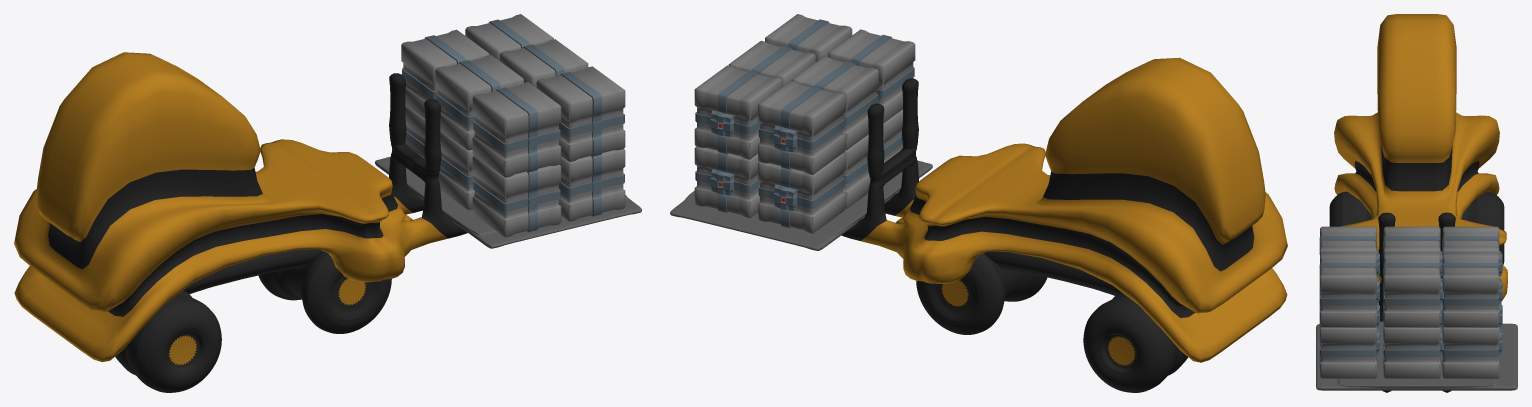
File: ForkLiftMetal.fbx
3 views of the same model, side by side, from view 1: azimuth 30°, elevation 25°; view 2: azimuth 150°, elevation 25°; view 3: azimuth 270°, elevation 25° (orthographic). The views are drawn at different scales.
Parts seen in each view (by area): view 1: Cube.001, Cylinder.001, MetalCrate.009, Cylinder.002, MetalCrate.008, MetalCrate.003, MetalCrate.007, MetalCrate.002, MetalCrate.011, Cube.026, MetalCrate.006, MetalCrate.010 (+3 smaller); view 2: Cube.001, Cylinder.001, MetalCrate.011, Cylinder.002, MetalCrate.010, MetalCrate.005, Cube.026, MetalCrate.004, MetalCrate.009, MetalCrate.007, MetalCrate.008, MetalCrate.006 (+3 smaller); view 3: Cube.001, MetalCrate.010, MetalCrate.006, MetalCrate.008, Cube.026, MetalCrate.004, MetalCrate, MetalCrate.002, Cylinder.001, MetalCrate.011, MetalCrate.007, MetalCrate.009.
Boxes of the visible parts, bbox=[...] form: Cube.001: bbox=[14, 52, 467, 362]; Cylinder.001: bbox=[115, 290, 221, 392]; MetalCrate.009: bbox=[472, 82, 561, 177]; Cylinder.002: bbox=[258, 251, 391, 333]; MetalCrate.008: bbox=[536, 66, 625, 162]; MetalCrate.003: bbox=[472, 155, 561, 237]; MetalCrate.007: bbox=[435, 55, 523, 150]; MetalCrate.002: bbox=[559, 149, 625, 221]; MetalCrate.011: bbox=[401, 29, 489, 118]; Cube.026: bbox=[375, 156, 641, 248]; MetalCrate.006: bbox=[499, 39, 588, 87]; MetalCrate.010: bbox=[465, 14, 553, 60]; Cube.001: bbox=[841, 57, 1287, 362]; Cylinder.001: bbox=[1083, 292, 1188, 392]; MetalCrate.011: bbox=[758, 81, 844, 175]; Cylinder.002: bbox=[916, 253, 1047, 334]; MetalCrate.010: bbox=[694, 65, 781, 159]; MetalCrate.005: bbox=[758, 153, 844, 233]; Cube.026: bbox=[670, 160, 932, 250]; MetalCrate.004: bbox=[694, 147, 759, 218]; MetalCrate.009: bbox=[828, 29, 915, 123]; MetalCrate.007: bbox=[791, 56, 878, 150]; MetalCrate.008: bbox=[765, 14, 852, 61]; MetalCrate.006: bbox=[728, 41, 815, 86]; Cube.001: bbox=[1334, 14, 1507, 392]; MetalCrate.010: bbox=[1442, 253, 1502, 327]; MetalCrate.006: bbox=[1383, 253, 1443, 327]; MetalCrate.008: bbox=[1319, 253, 1379, 327]; Cube.026: bbox=[1316, 321, 1517, 390]; MetalCrate.004: bbox=[1442, 317, 1502, 378]; MetalCrate: bbox=[1383, 317, 1443, 378]; MetalCrate.002: bbox=[1319, 317, 1379, 378]; Cylinder.001: bbox=[1329, 191, 1504, 264]; MetalCrate.011: bbox=[1442, 226, 1502, 276]; MetalCrate.007: bbox=[1383, 226, 1442, 289]; MetalCrate.009: bbox=[1319, 226, 1379, 289].
Bounding box in the file's own units: 2591 × 1382 × 994.
